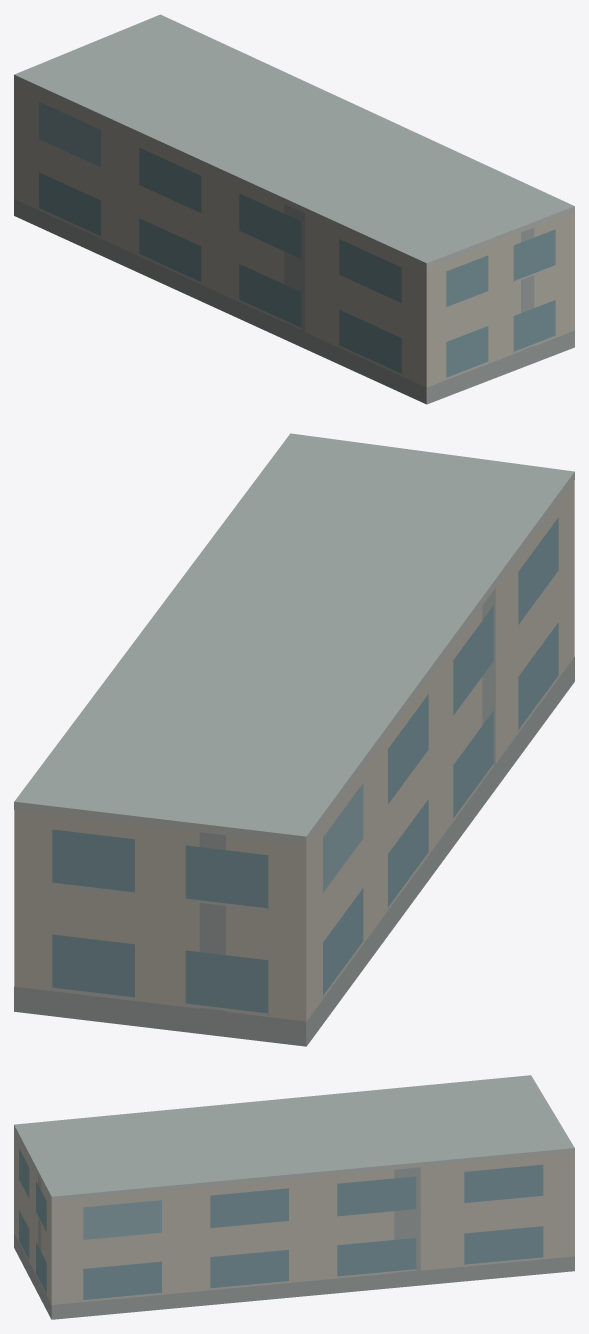
The model's file is survey-upis-32512566.glb.
The picture shows the model from 3 angles, top to bottom: view 1: azimuth 30°, elevation 25°; view 2: azimuth 150°, elevation 25°; view 3: azimuth 270°, elevation 25°; orthographic projection. The views are drawn at different scales.
Visible parts, largest first — view 1: survey-upis-32512566.tmp; view 2: survey-upis-32512566.tmp; view 3: survey-upis-32512566.tmp.
Boxes of the visible parts, <box> form: survey-upis-32512566.tmp: <box>14,14,574,404</box>; survey-upis-32512566.tmp: <box>14,433,574,1046</box>; survey-upis-32512566.tmp: <box>14,1075,574,1319</box>.
Bounding box in the file's own units: 12.93 × 6.1 × 25.2.
